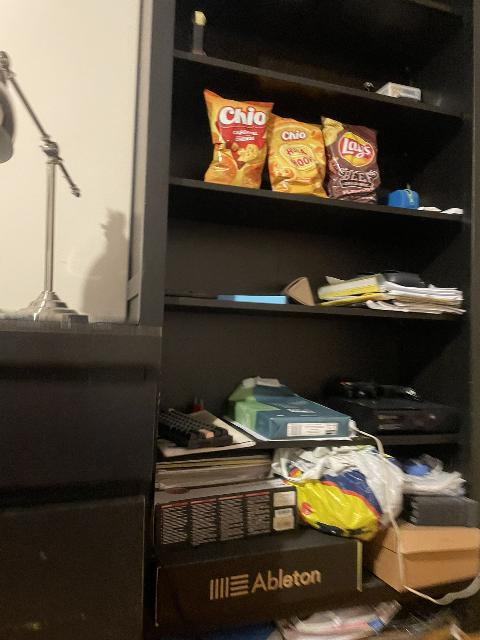Chio Cascaval 125g: (201, 89, 275, 190)
Chio Hula Hoops Cheese 70g: (267, 114, 329, 197)
Lays Beef Grilled Ribs 125g: (321, 116, 381, 200)
